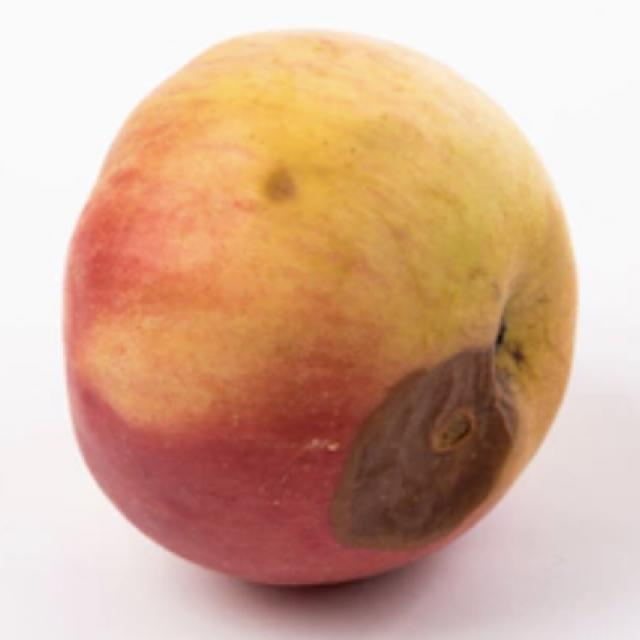Rotten: (72, 38, 583, 577)
